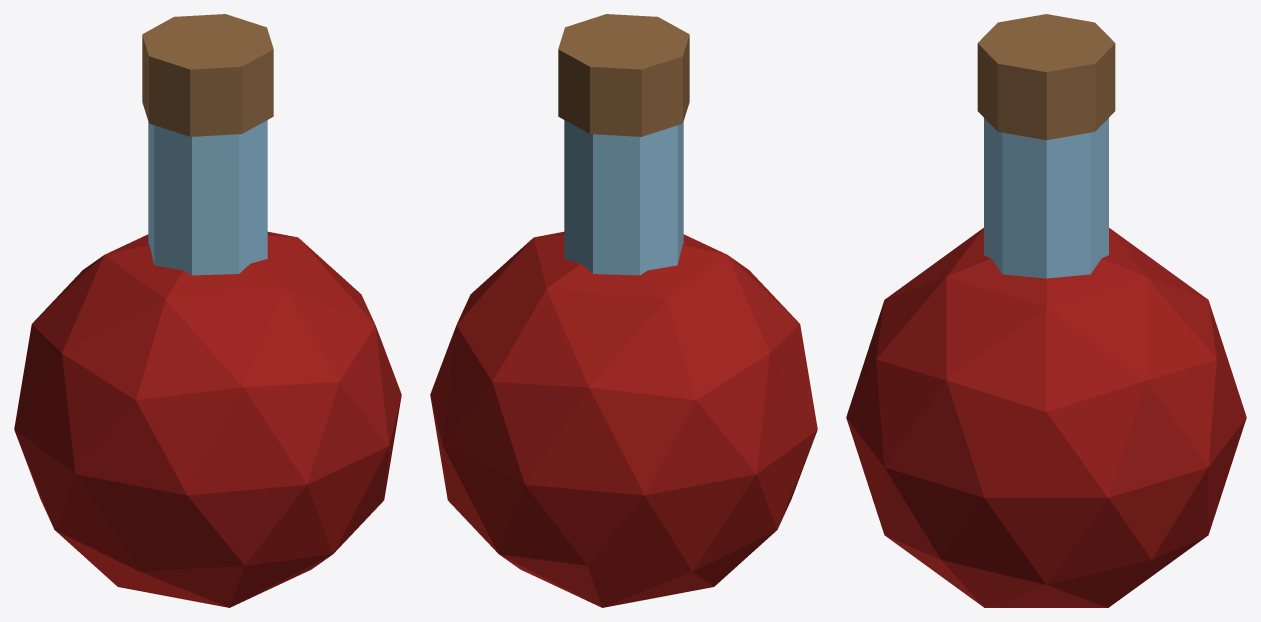
File: SM_GZ_item_healing_tonic.fbx
3 views of the same model, side by side, from view 1: azimuth 30°, elevation 25°; view 2: azimuth 150°, elevation 25°; view 3: azimuth 270°, elevation 25° (orthographic).
Parts seen in each view (by area): view 1: SM_GZ_item_healing_tonic; view 2: SM_GZ_item_healing_tonic; view 3: SM_GZ_item_healing_tonic.
Boxes of the visible parts, x1,y1,x2,y2 form: SM_GZ_item_healing_tonic: (14,14,401,607); SM_GZ_item_healing_tonic: (430,14,817,607); SM_GZ_item_healing_tonic: (846,14,1246,607).
Size of the model in its own units: 60.87 by 98 by 64.
